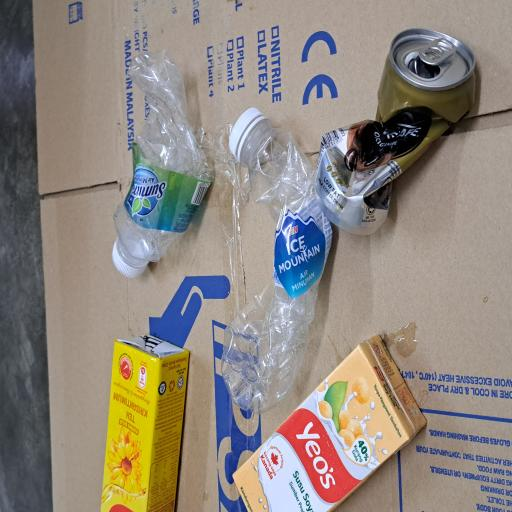can: (210, 421, 363, 512)
cardboard: (0, 43, 384, 512)
drink carton: (0, 307, 132, 512), (0, 131, 133, 253)
plastic bottle: (74, 293, 302, 444), (175, 150, 346, 283)
plastic bottle cap: (260, 303, 302, 355), (176, 151, 206, 201)
